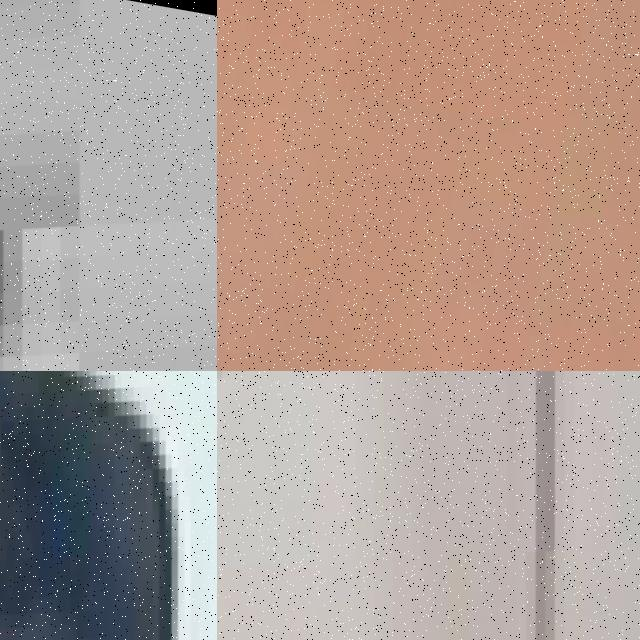drone: (217, 371, 640, 640), (0, 0, 217, 371), (0, 371, 217, 640)
